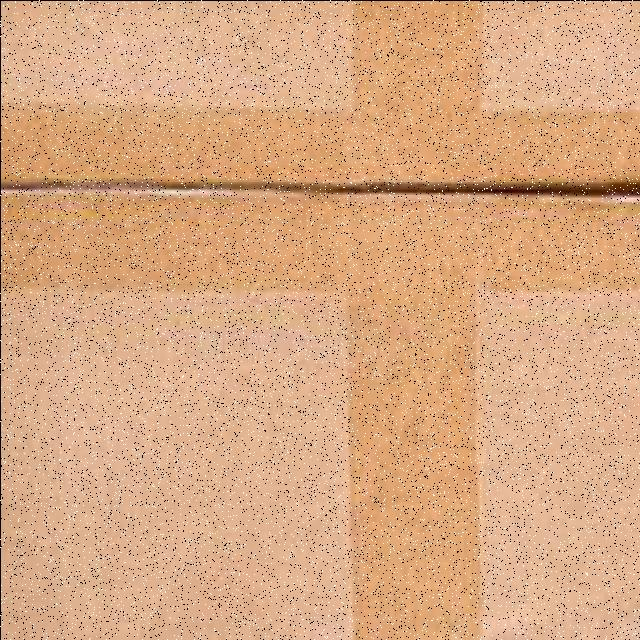normal: (0, 1, 636, 424)
